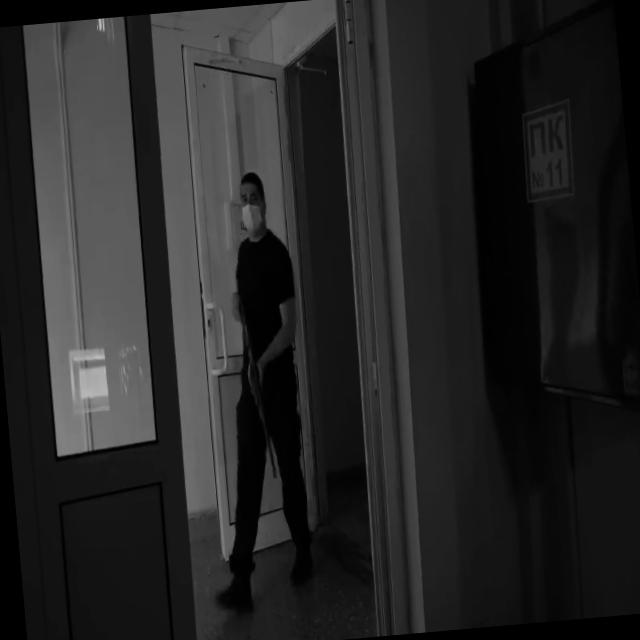gun: (236, 294, 277, 482)
person with a gun: (181, 169, 323, 612)
